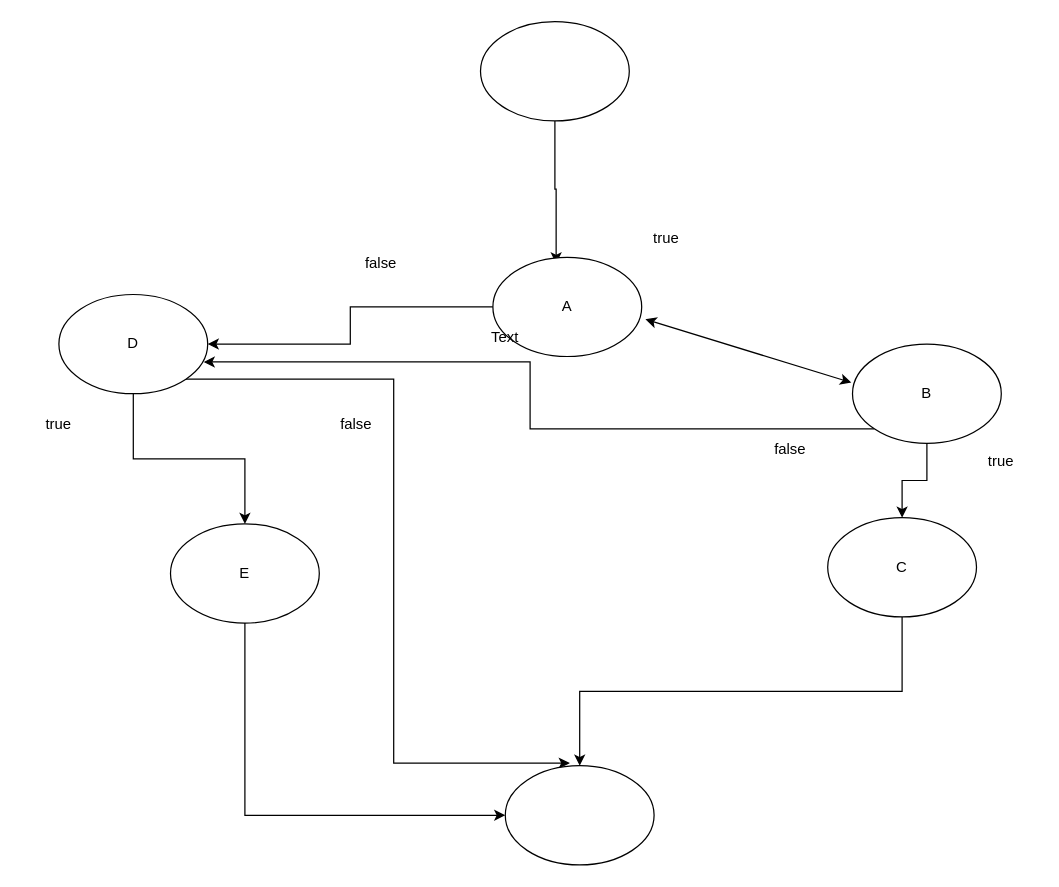
Some shapes in this 1059 by 887 pixel diagram are drawn without their labels. Here are the shapes that lost their labels. From the top down, the box of each, then its label:
(479, 20, 629, 121): Inicio
(504, 764, 654, 865): final
